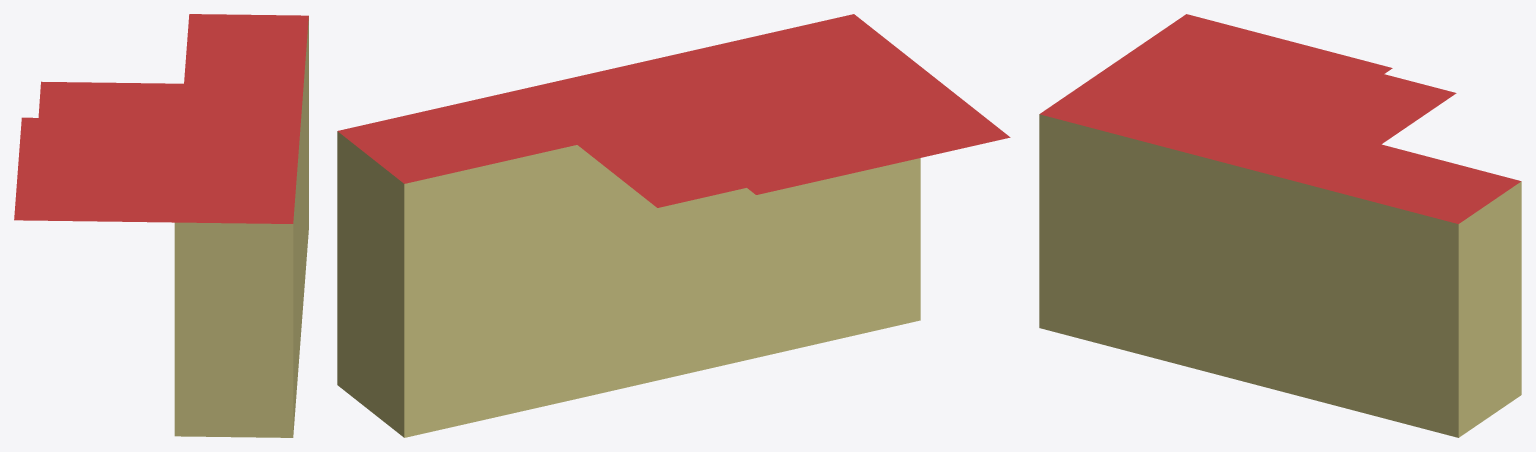
3 views of the same model, side by side, from view 1: azimuth 30°, elevation 25°; view 2: azimuth 150°, elevation 25°; view 3: azimuth 270°, elevation 25° (orthographic). The views are drawn at different scales.
Bounding box in the file's own units: 12.05 × 11.68 × 5.71.
